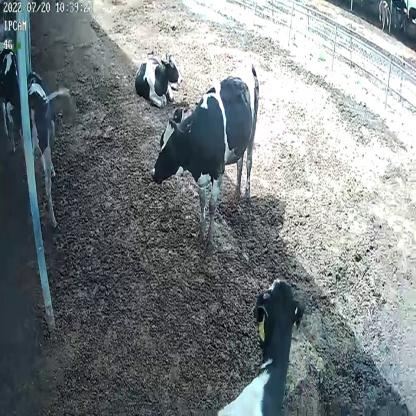cow: (152, 63, 262, 248), (214, 276, 305, 416), (133, 48, 185, 108)
